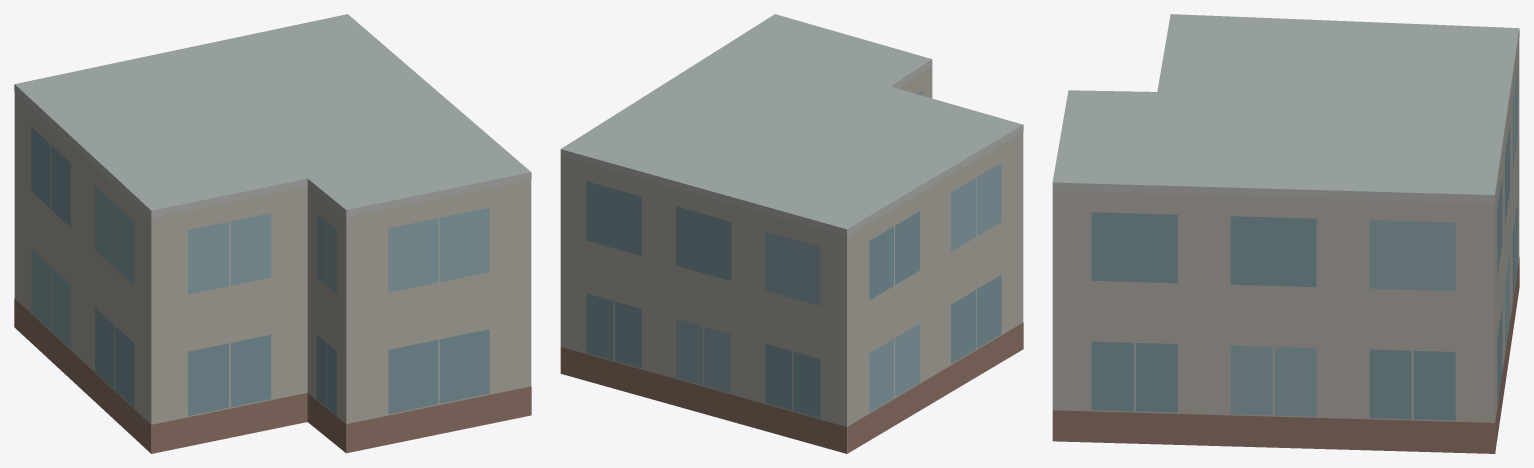
File: survey-upis-32767410.glb
3 renders of one model, left to right at view 1: azimuth 30°, elevation 25°; view 2: azimuth 150°, elevation 25°; view 3: azimuth 270°, elevation 25°, orthographic. The views are drawn at different scales.
Visible parts, largest first — view 1: survey-upis-32767410.tmp; view 2: survey-upis-32767410.tmp; view 3: survey-upis-32767410.tmp.
Part boxes in pixels (x1,y1,x2,y2): survey-upis-32767410.tmp: (14,14,531,453); survey-upis-32767410.tmp: (560,14,1023,453); survey-upis-32767410.tmp: (1052,14,1519,453).
Size of the model in its own units: 11.72 by 7.8 by 12.77.
